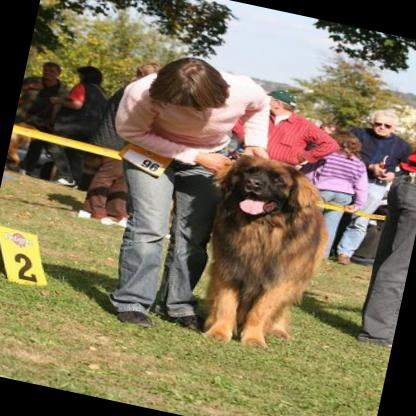Leonberg: (174, 144, 340, 359)
